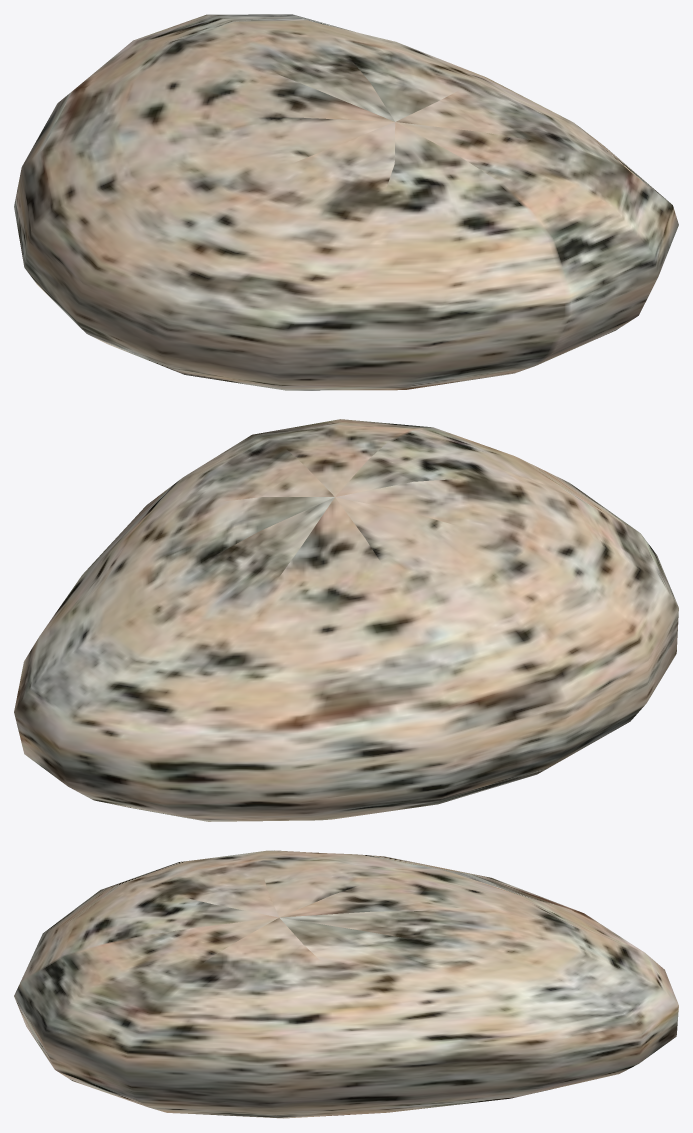
File: Rock_G.fbx
The picture shows the model from 3 angles, top to bottom: view 1: azimuth 30°, elevation 25°; view 2: azimuth 150°, elevation 25°; view 3: azimuth 270°, elevation 25°; orthographic projection. The views are drawn at different scales.
Parts seen in each view (by area): view 1: pSphere7; view 2: pSphere7; view 3: pSphere7.
Part boxes in pixels (<box>): pSphere7: <box>14,14,678,390</box>; pSphere7: <box>14,419,678,821</box>; pSphere7: <box>14,850,678,1118</box>.
Bounding box in the file's own units: 5.45 × 2.1 × 7.12.
Materials: 1 (1 with a texture image).
